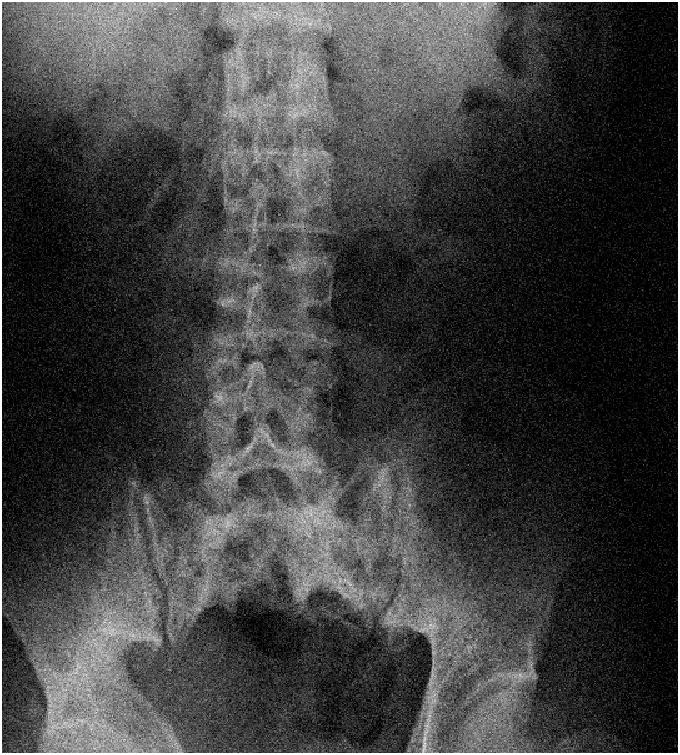lumbar scoliosis: (199, 146, 350, 500)
